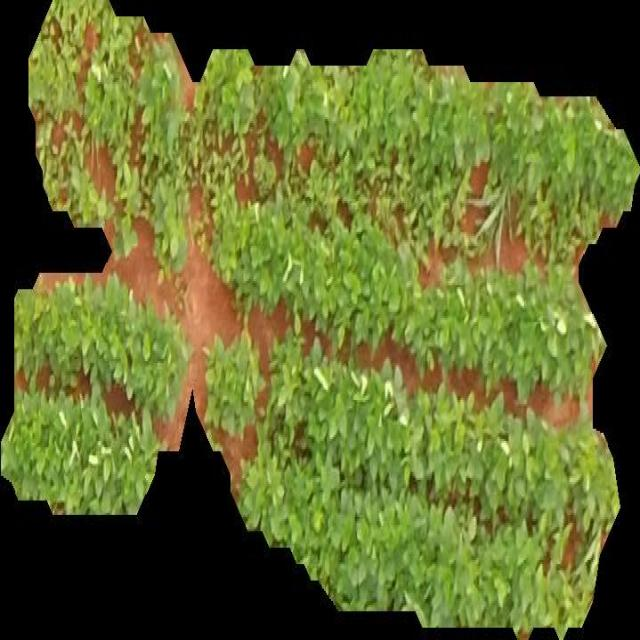Soybean: (1, 1, 640, 640)
